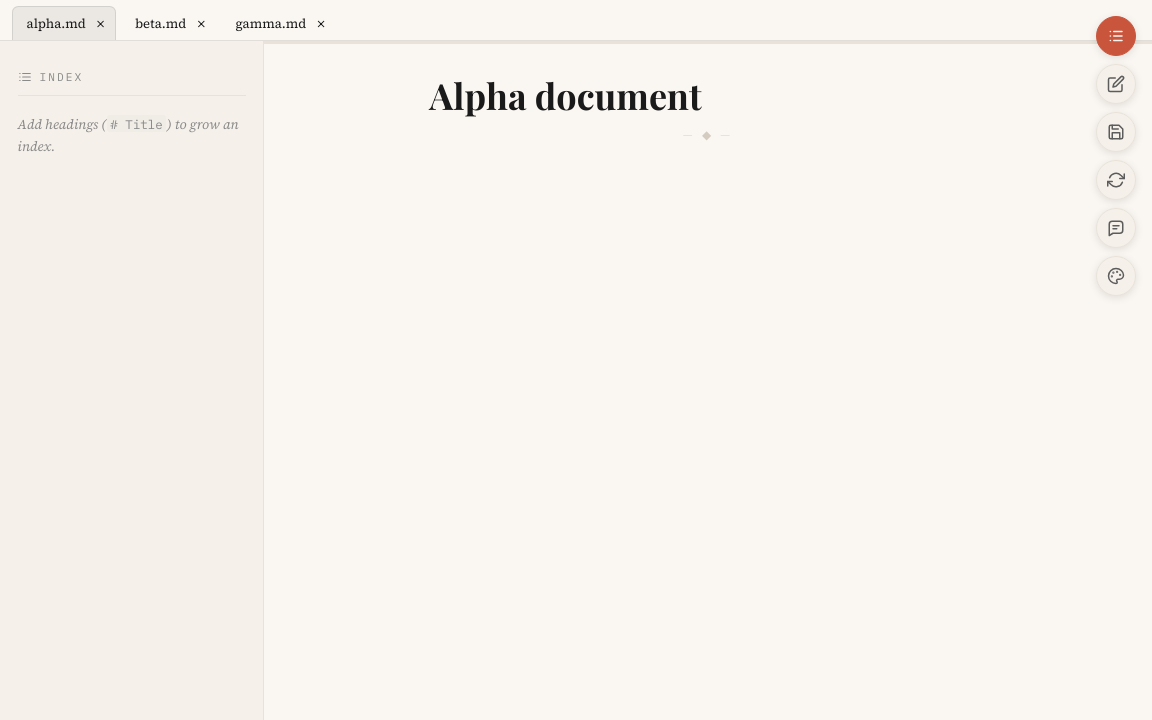
Test case: closing tabs in the desktop app › closing an inactive tab keeps the active document in place
This screenshot has width=1152, height=720.
Expected: the tab "alpha.md" is shown, top-left (13, 7), bottom-right (91, 40)
Click the button named "Close beta.md": point(201, 24) top-left (192, 14), bottom-right (210, 33)
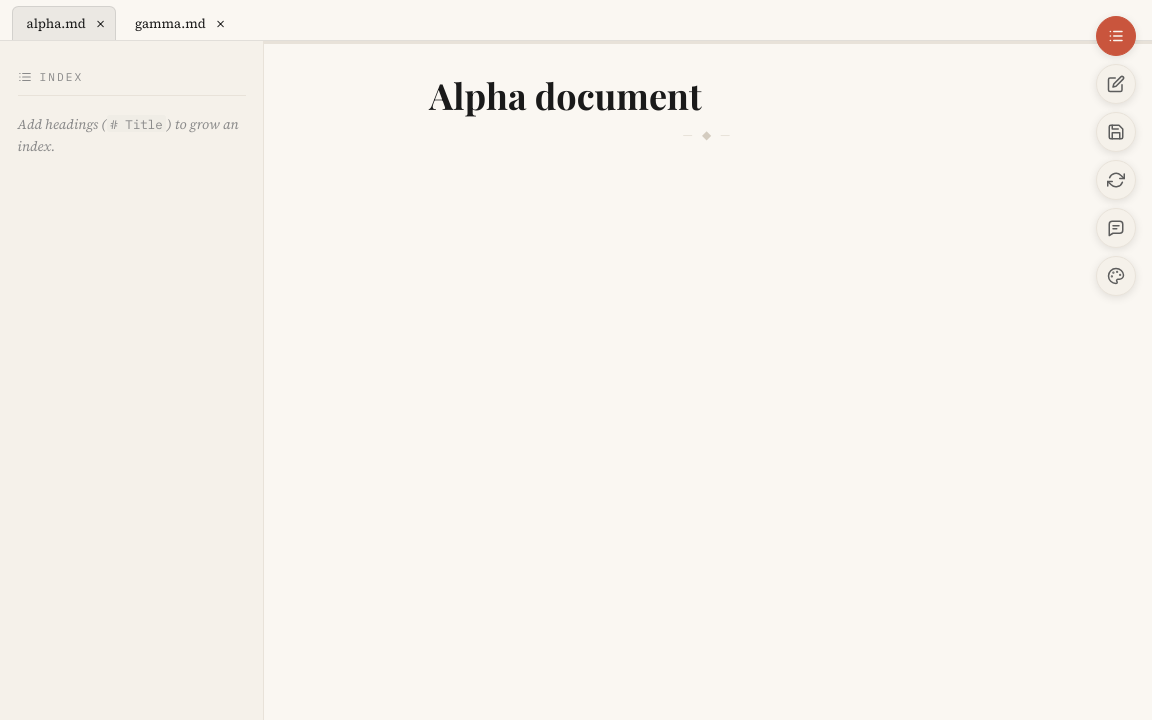
Expected: the tab "beta.md" is gone
